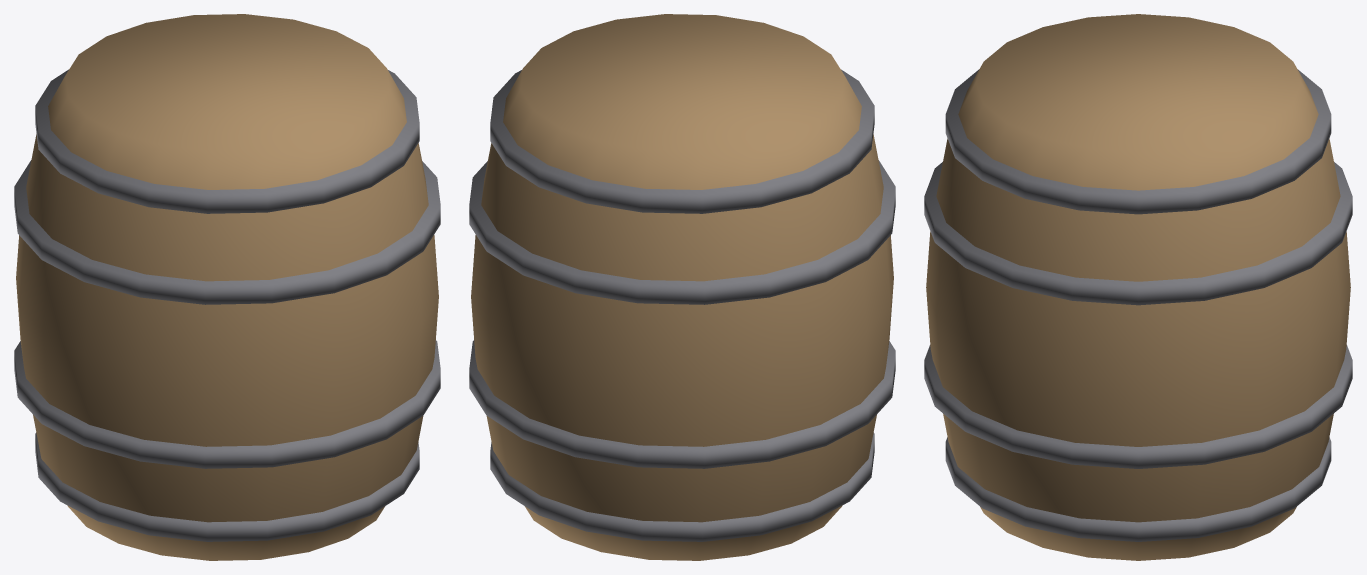
Rendered from tonneau.glb.
3 renders of one model, left to right at view 1: azimuth 30°, elevation 25°; view 2: azimuth 150°, elevation 25°; view 3: azimuth 270°, elevation 25°, orthographic.
Parts seen in each view (by area): view 1: tonneau_douelles, tonneau_cercles; view 2: tonneau_douelles, tonneau_cercles; view 3: tonneau_douelles, tonneau_cercles.
Part boxes in pixels (bbox=[...]): tonneau_douelles: bbox=[16, 14, 438, 560]; tonneau_cercles: bbox=[14, 69, 440, 541]; tonneau_douelles: bbox=[471, 14, 893, 560]; tonneau_cercles: bbox=[469, 69, 895, 541]; tonneau_douelles: bbox=[926, 14, 1350, 560]; tonneau_cercles: bbox=[924, 69, 1352, 541].
Bounding box in the file's own units: 0.948 × 1 × 0.948.
